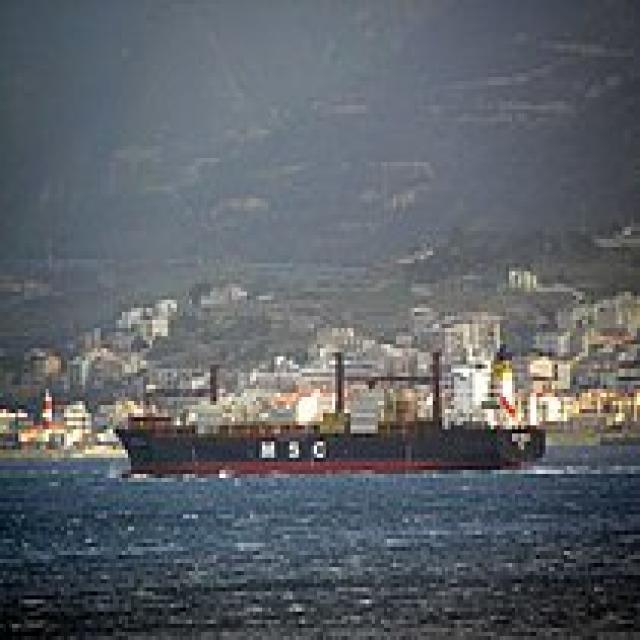Ship: (114, 357, 553, 479)
